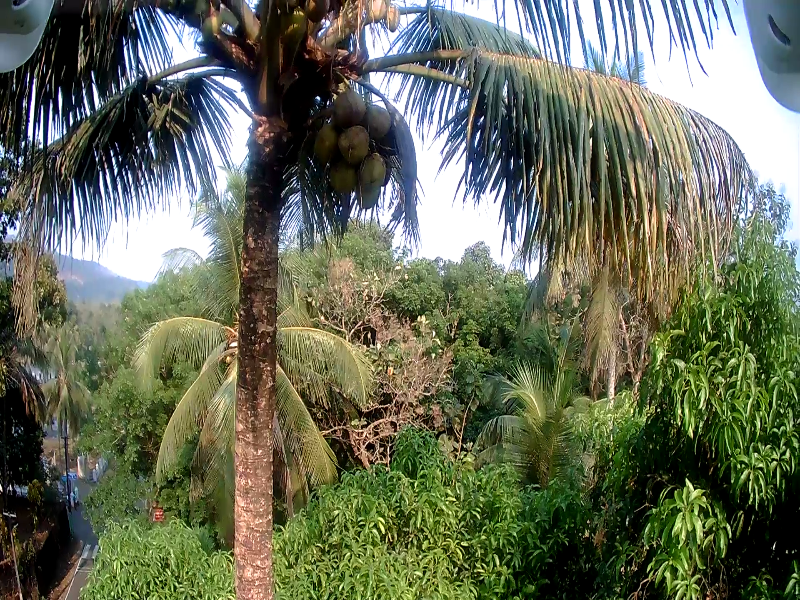coconut: (348, 182, 384, 215), (332, 84, 361, 121), (357, 96, 382, 132), (308, 120, 337, 149), (341, 120, 361, 160), (326, 155, 348, 190), (360, 148, 378, 187), (385, 5, 398, 37), (367, 3, 378, 26)
